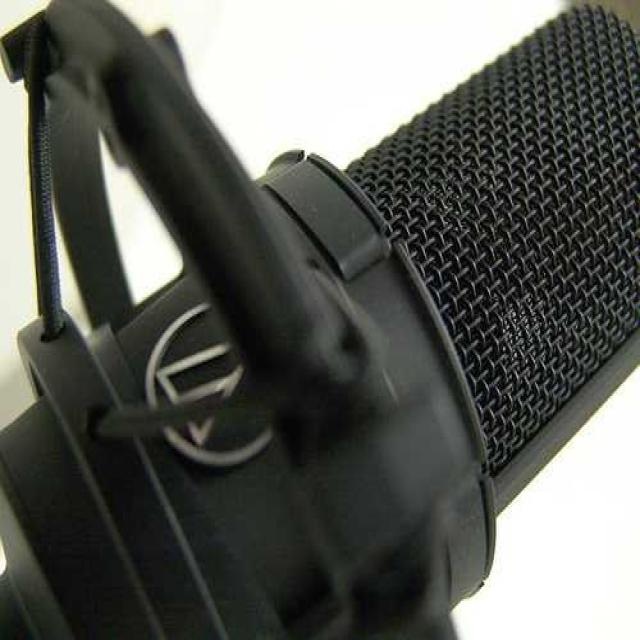microphone: (11, 51, 636, 638)
